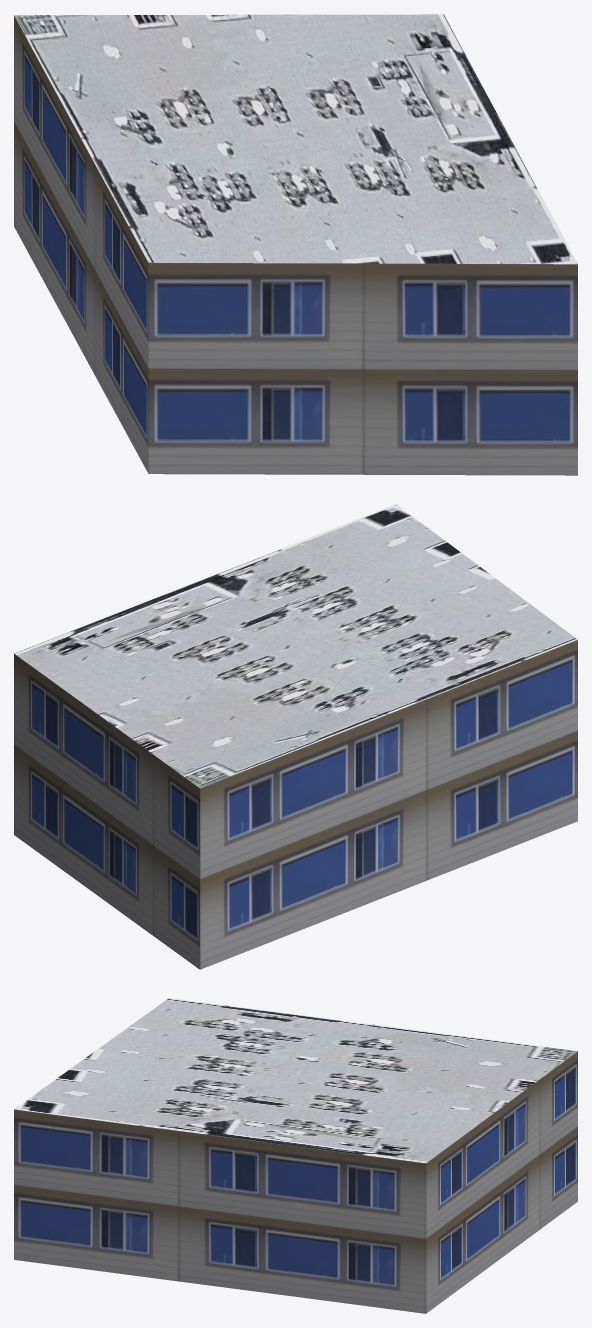
File: ResTex__707.fbx
3 renders of one model, top to bottom at view 1: azimuth 30°, elevation 25°; view 2: azimuth 150°, elevation 25°; view 3: azimuth 270°, elevation 25°, orthographic. The views are drawn at different scales.
Visible parts, largest first — view 1: CityEngineMaterial_23_m, CityEngineMaterial_2_m; view 2: CityEngineMaterial_23_m, CityEngineMaterial_2_m; view 3: CityEngineMaterial_23_m, CityEngineMaterial_2_m.
Boxes of the visible parts, <box> form: CityEngineMaterial_23_m: <box>14,16,577,475</box>; CityEngineMaterial_2_m: <box>14,14,577,264</box>; CityEngineMaterial_23_m: <box>14,640,577,969</box>; CityEngineMaterial_2_m: <box>14,504,577,788</box>; CityEngineMaterial_23_m: <box>14,1051,577,1313</box>; CityEngineMaterial_2_m: <box>14,998,577,1163</box>.
Bounding box in the file's own units: 14.15 × 6 × 20.39.
2 materials, 2 textured.
